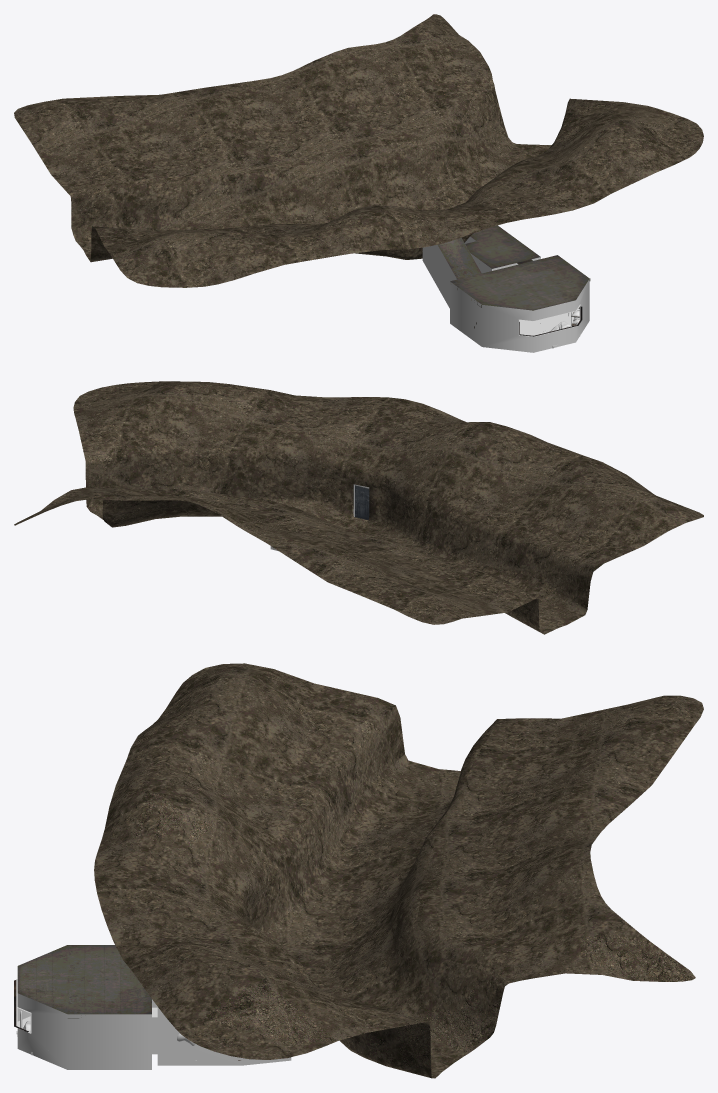
File: Bunker.fbx
The picture shows the model from 3 angles, top to bottom: view 1: azimuth 30°, elevation 25°; view 2: azimuth 150°, elevation 25°; view 3: azimuth 270°, elevation 25°; orthographic projection. The views are drawn at different scales.
Parts seen in each view (by area): view 1: Plane.012, Cube.011, Cube.015, Cube.003; view 2: Plane.012, Cube.042; view 3: Plane.012, Cube.015, Cube.011.
Part boxes in pixels (x1,y1,x2,y2): Plane.012: (14,14,703,287); Cube.011: (438,225,589,310); Cube.015: (422,236,589,352); Cube.003: (422,260,573,335); Plane.012: (14,381,703,634); Cube.042: (355,485,369,520); Plane.012: (94,663,703,1078); Cube.015: (16,979,291,1069); Cube.011: (17,945,151,1014).
Bounding box in the file's own units: 44.13 × 10.12 × 33.67.
